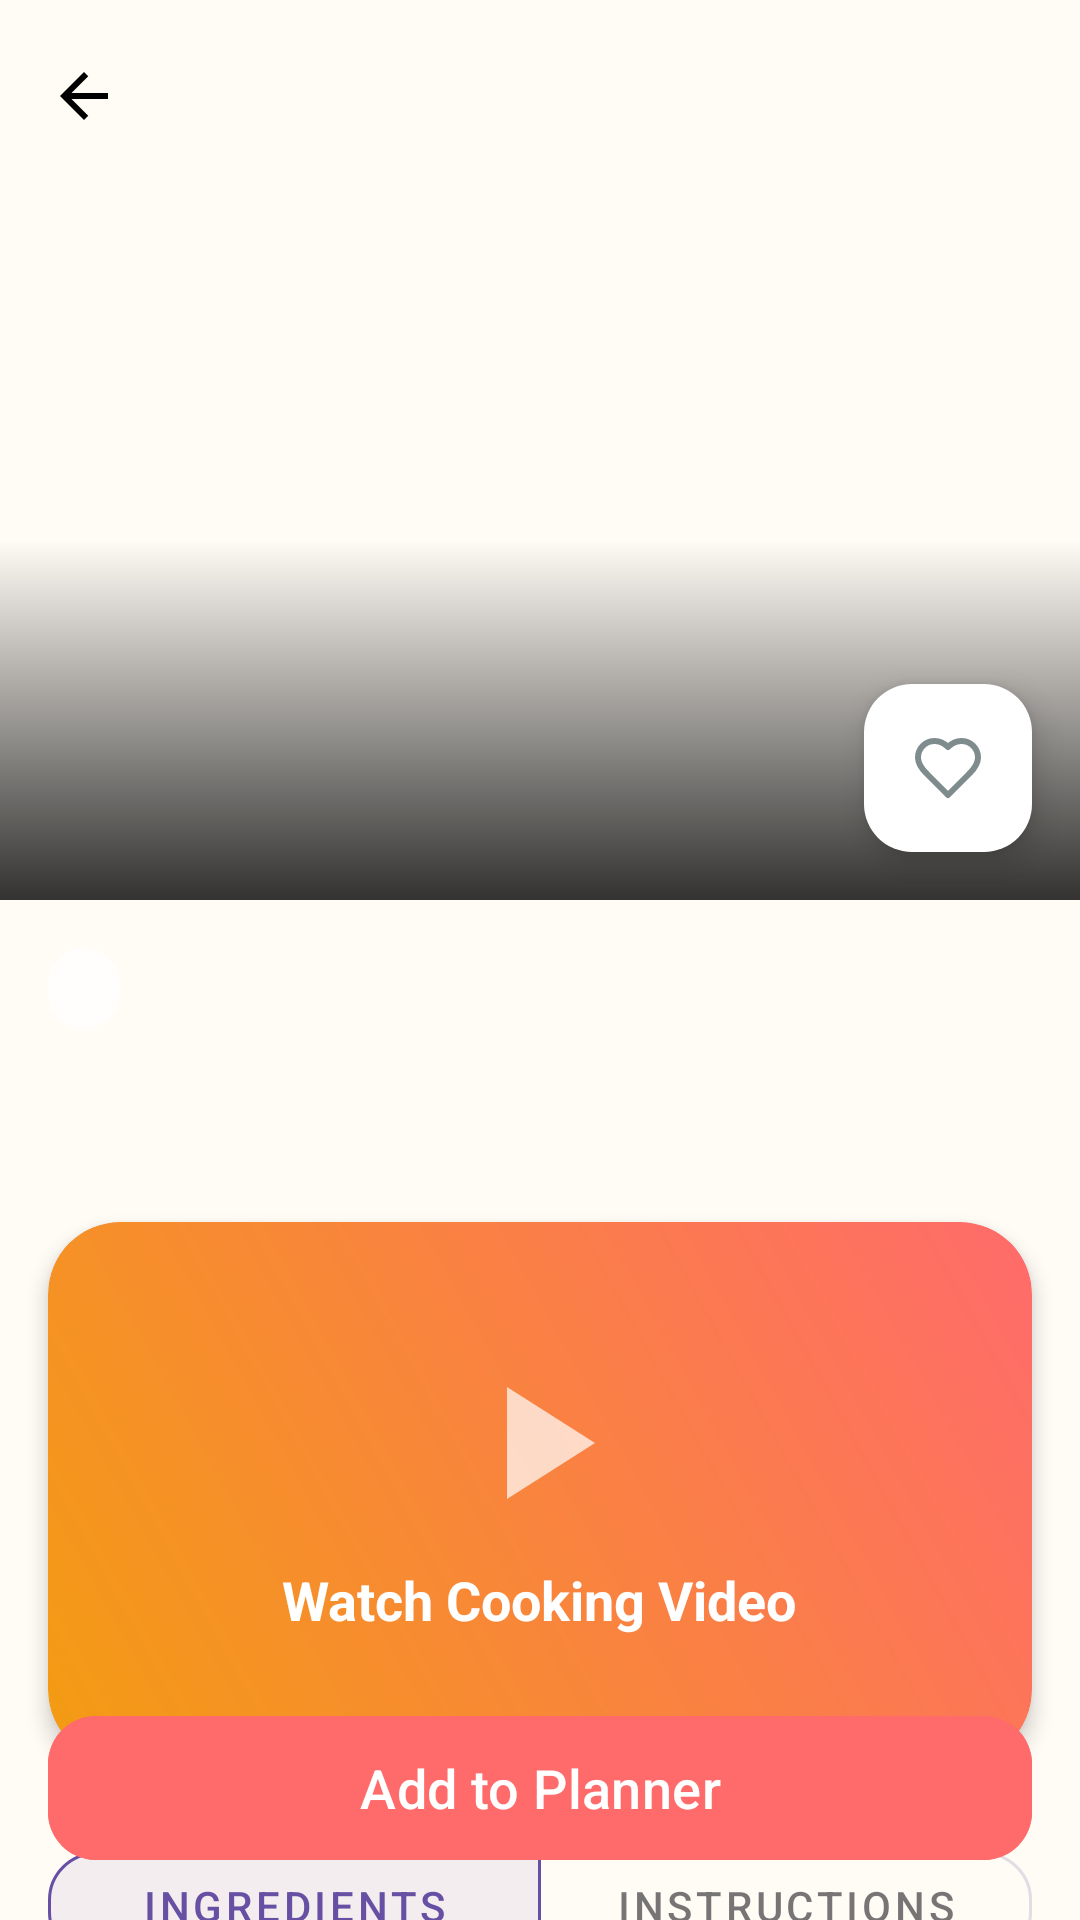

Icon click points for this 1080x1920 phone screenshot, format [x,y]:
heart: [948,768]
play: [551,1443]
